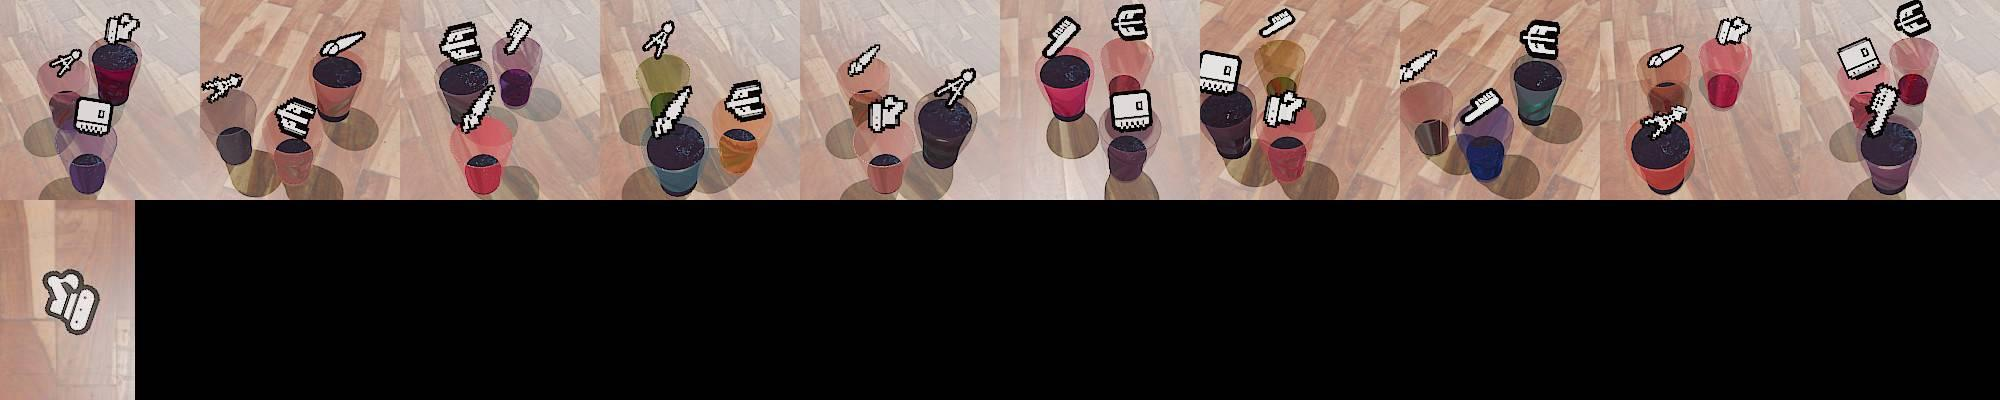icon: (43, 267, 103, 334), (653, 82, 696, 137), (275, 95, 319, 141), (1109, 88, 1153, 133), (1864, 82, 1900, 136), (1837, 37, 1881, 81), (1198, 49, 1241, 94), (437, 21, 482, 64), (726, 78, 769, 122), (932, 66, 977, 107), (1042, 15, 1081, 61), (1518, 20, 1560, 62), (460, 85, 496, 134), (1458, 87, 1502, 127), (73, 95, 115, 136), (868, 91, 907, 134), (1264, 88, 1307, 127), (1644, 103, 1688, 139), (1894, 1, 1932, 39), (319, 30, 367, 60), (642, 19, 676, 61), (1110, 3, 1148, 40), (1399, 48, 1439, 83), (201, 72, 243, 103), (104, 12, 141, 46), (502, 18, 533, 58), (849, 43, 882, 79), (1259, 7, 1296, 39), (1715, 16, 1752, 47), (49, 48, 83, 78), (1646, 43, 1684, 68)
